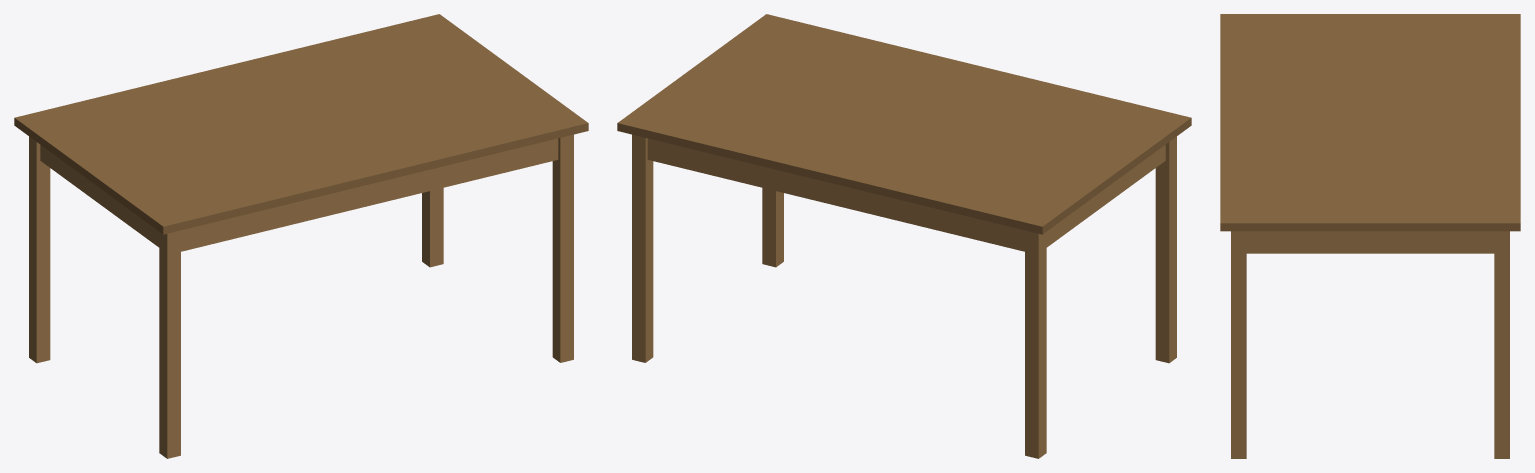
The model's file is HIN-DTB-4-seat.glb.
3 renders of one model, left to right at view 1: azimuth 30°, elevation 25°; view 2: azimuth 150°, elevation 25°; view 3: azimuth 270°, elevation 25°, orthographic.
Visible parts, largest first — view 1: top:pbr, apron-f:pbr, leg-fl:pbr, leg-fr:pbr, leg-bl:pbr, apron-l:pbr, leg-br:pbr; view 2: top:pbr, apron-b:pbr, leg-bl:pbr, leg-br:pbr, leg-fl:pbr, apron-l:pbr, leg-fr:pbr; view 3: top:pbr, apron-r:pbr, leg-fr:pbr, leg-br:pbr.
Part boxes in pixels (x1,y1,x2,y2): top:pbr: (14,14,588,234); apron-f:pbr: (181,138,558,251); leg-fl:pbr: (159,230,180,458); leg-fr:pbr: (552,134,573,362); leg-bl:pbr: (29,136,50,363); apron-l:pbr: (40,145,159,247); leg-br:pbr: (422,188,443,267); top:pbr: (617,14,1191,234); apron-b:pbr: (647,138,1024,251); leg-bl:pbr: (1025,230,1046,458); leg-br:pbr: (632,134,653,362); leg-fl:pbr: (1155,136,1176,363); apron-l:pbr: (1046,145,1165,247); leg-fr:pbr: (762,188,783,267); top:pbr: (1220,14,1520,231); apron-r:pbr: (1246,231,1494,253); leg-fr:pbr: (1231,231,1246,458); leg-br:pbr: (1494,231,1509,458).
Bounding box in the file's own units: 1.4 × 0.75 × 0.85.
